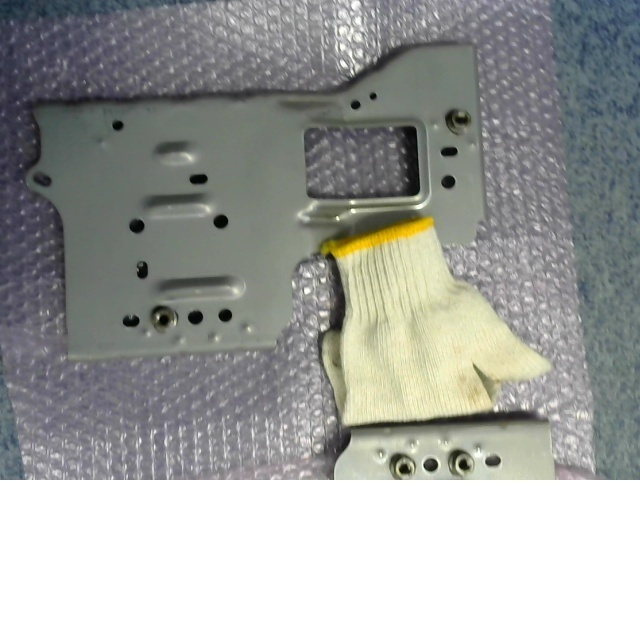dog: (447, 449, 475, 479), (445, 107, 472, 136), (151, 305, 177, 333)
